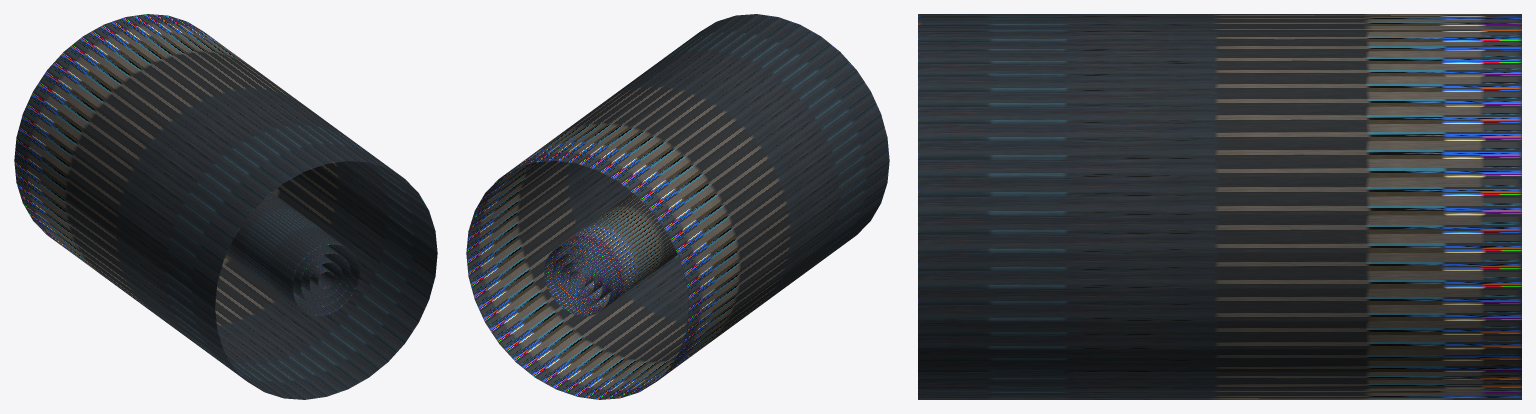
Rendered from Medium Dark Energy Pipe window.obj.
3 renders of one model, left to right at view 1: azimuth 30°, elevation 25°; view 2: azimuth 150°, elevation 25°; view 3: azimuth 270°, elevation 25°, orthographic. The views are drawn at different scales.
Parts seen in each view (by area): view 1: Cylinder.001_Cylinder.001; view 2: Cylinder.001_Cylinder.001; view 3: Cylinder.001_Cylinder.001.
Part boxes in pixels (left/top/right/bottom): Cylinder.001_Cylinder.001: left=14, top=14, right=437, bottom=399; Cylinder.001_Cylinder.001: left=466, top=14, right=889, bottom=399; Cylinder.001_Cylinder.001: left=918, top=14, right=1521, bottom=399.
Size of the model in its own units: 0.64 by 0.64 by 1.
